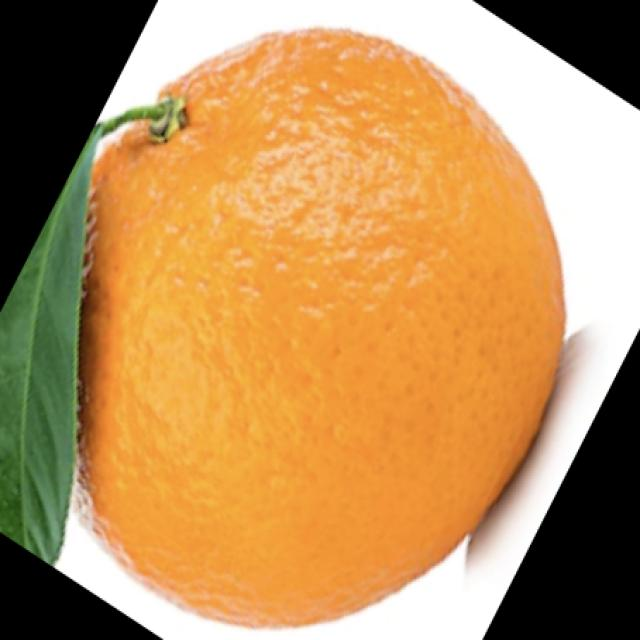matang: (80, 30, 565, 631)
